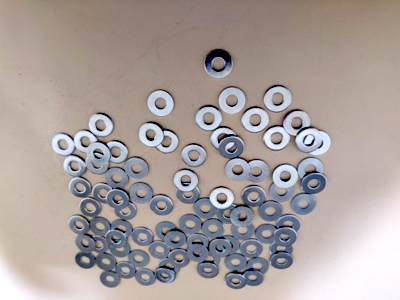circle: (205, 50, 233, 79), (219, 86, 246, 114), (147, 90, 175, 117), (283, 110, 311, 137), (264, 86, 292, 112), (241, 108, 269, 133), (304, 131, 331, 156), (264, 126, 290, 151), (181, 144, 208, 168), (139, 123, 164, 148), (154, 129, 179, 154), (89, 113, 114, 138), (196, 107, 222, 131), (273, 165, 299, 189), (174, 169, 199, 193), (226, 158, 251, 182), (245, 159, 270, 183), (298, 158, 324, 181), (296, 129, 320, 153), (219, 137, 244, 160), (210, 187, 235, 210), (270, 180, 295, 203), (241, 185, 266, 208), (292, 193, 317, 216), (301, 173, 327, 195), (51, 133, 75, 156), (87, 142, 111, 165), (104, 142, 129, 164), (177, 182, 200, 205), (125, 157, 149, 179), (86, 153, 110, 175), (216, 202, 240, 224), (75, 131, 97, 154), (64, 155, 87, 177), (150, 195, 174, 216), (194, 198, 218, 219), (259, 201, 283, 222), (179, 214, 203, 235), (276, 214, 300, 235), (130, 183, 153, 204), (114, 200, 137, 221), (69, 178, 93, 198), (79, 198, 103, 218), (231, 221, 255, 241), (273, 227, 297, 247), (270, 240, 295, 259), (106, 168, 128, 189), (93, 183, 115, 204), (107, 190, 130, 210), (231, 207, 254, 227), (187, 234, 210, 254), (202, 219, 225, 239), (164, 230, 188, 249), (255, 225, 279, 244), (68, 215, 90, 235), (168, 248, 190, 268), (149, 241, 171, 261), (159, 257, 182, 276), (209, 239, 232, 258), (240, 239, 263, 258), (90, 217, 111, 237), (112, 219, 133, 239), (87, 236, 109, 255), (75, 251, 97, 270), (199, 250, 221, 269), (132, 228, 154, 247), (155, 222, 177, 241), (186, 244, 209, 262), (106, 230, 127, 249), (76, 234, 97, 253), (109, 240, 131, 258), (100, 271, 122, 289), (128, 250, 150, 268), (225, 254, 247, 272), (270, 253, 293, 270), (225, 273, 247, 290), (243, 270, 265, 287), (247, 258, 269, 275), (197, 263, 220, 279), (116, 262, 136, 280), (95, 254, 116, 271), (135, 269, 156, 286), (156, 267, 177, 284)
